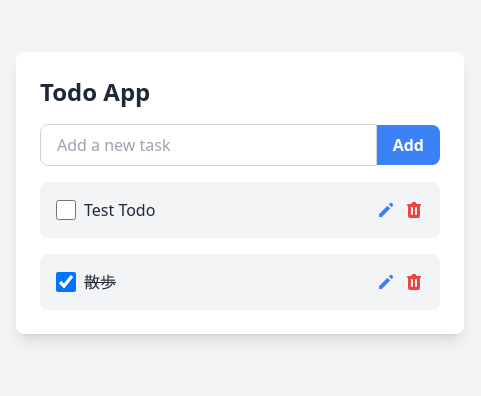
Test: TodoApp › 新しいTodoを追加する
Type "新しいタスク" into the field with placeholder "Add a new task" at (208, 145), box 40,124 -> 377,166
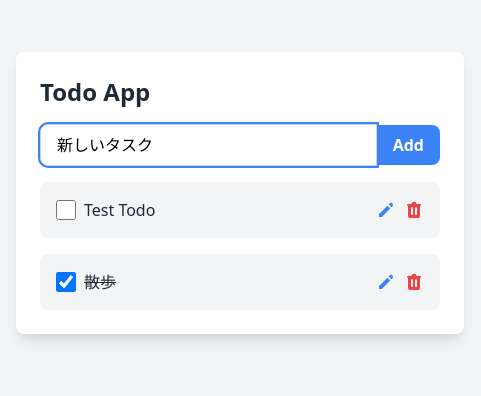
Click the button "Add" at (408, 145), box 377,125 -> 440,165
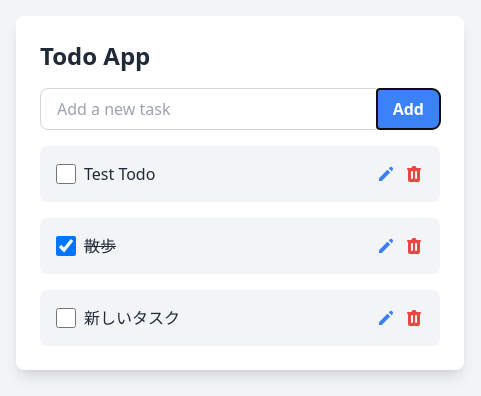
Check: the text "新しいタスク" is shown, box 84,306 -> 180,330
